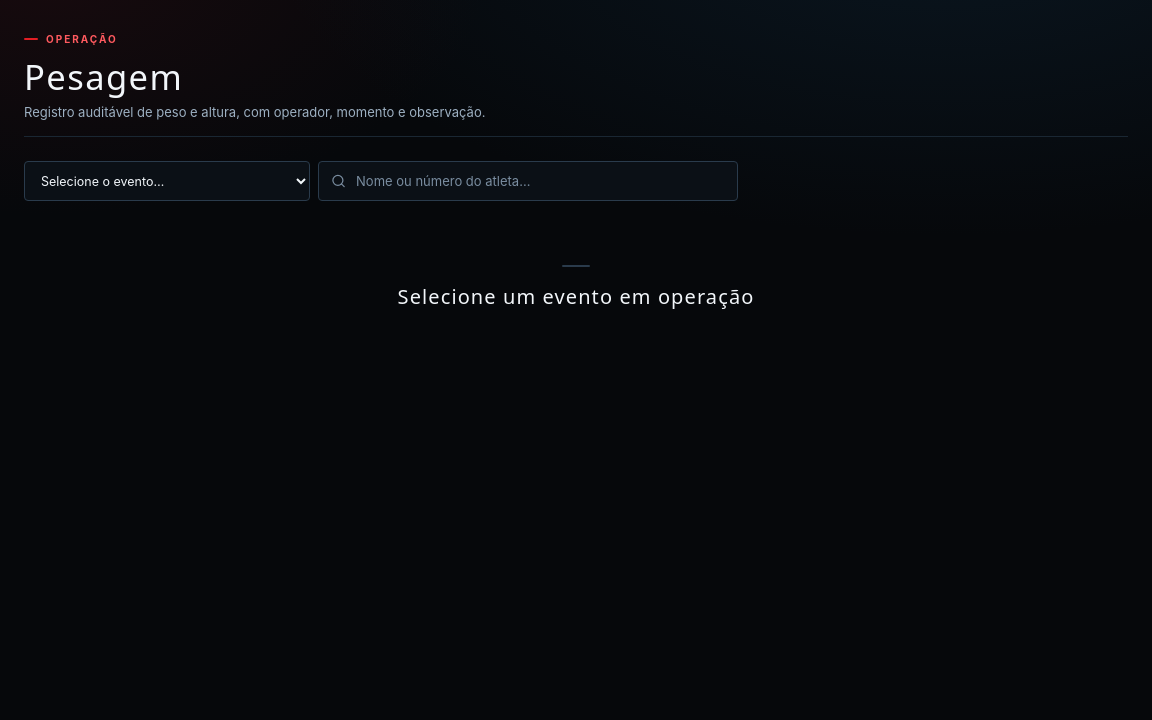
Test: pesagem › peso fora da faixa NÃO é comemoração — é decisão da organização
Step 1. Select "Muscle Contest Curitiba — Em operação" in the dropdown named "Selecionar evento" → (167, 181), box [24, 161, 310, 201]
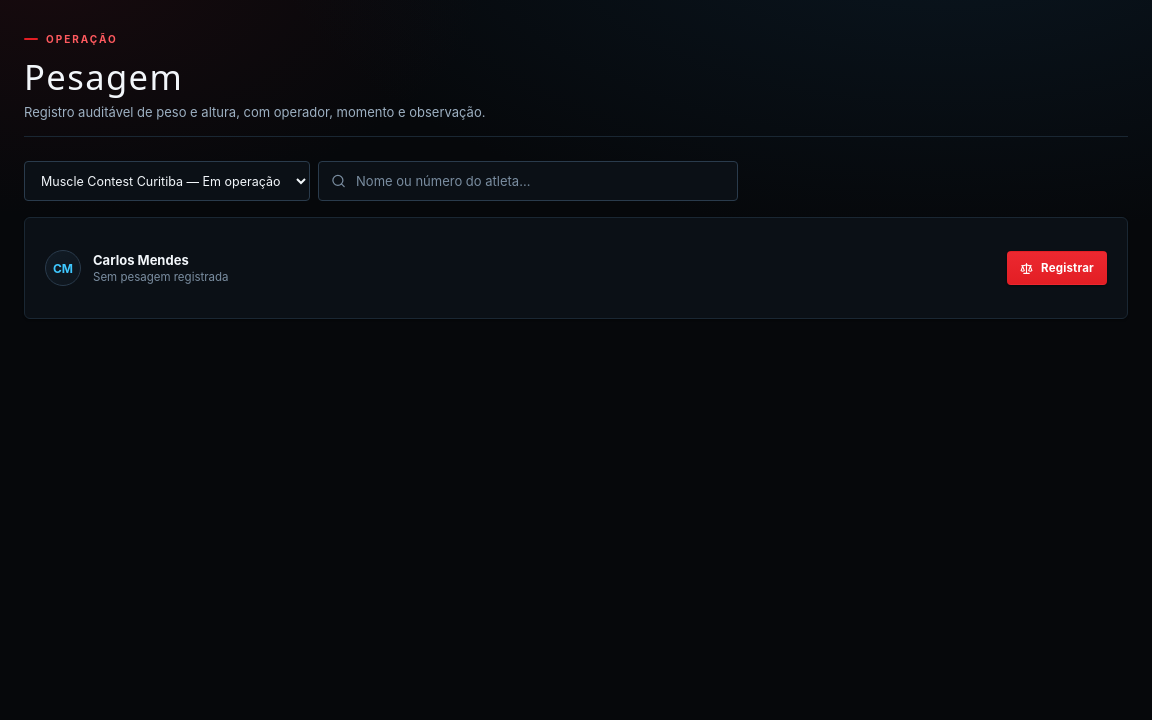
Step 2. Click the button "Registrar" → (1057, 268), box [1007, 251, 1107, 285]
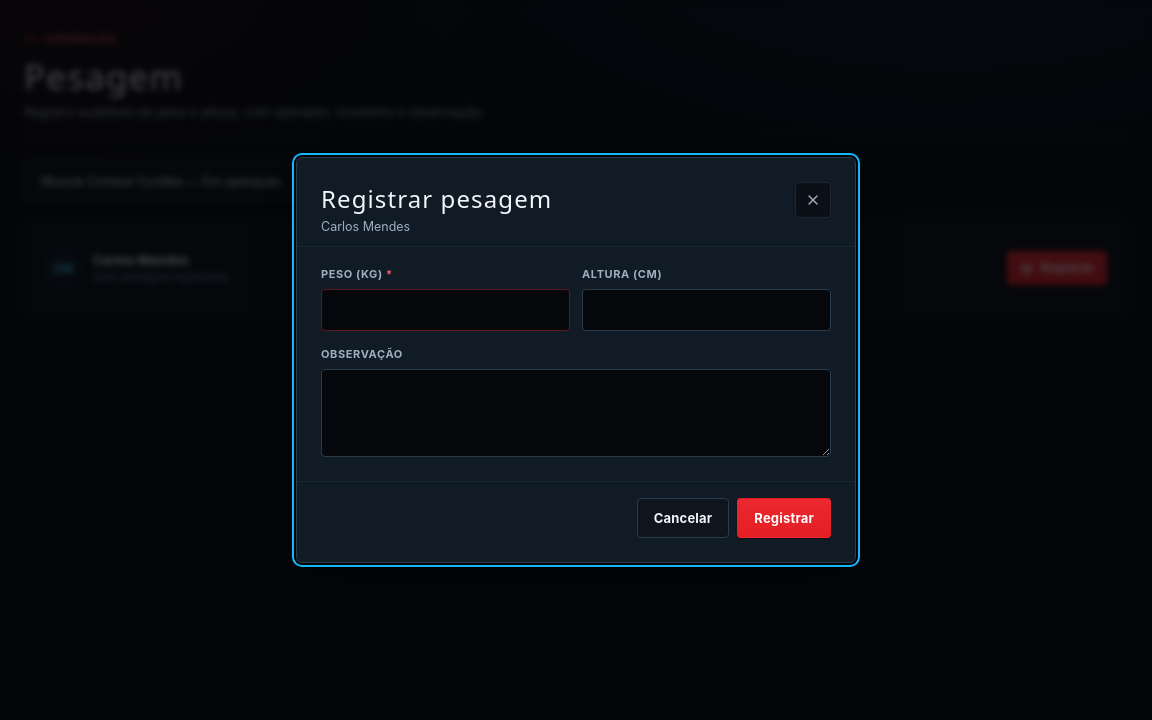
Step 3. Type "120" into the number field labelled "Peso (kg) *" → (446, 310), box [321, 289, 570, 331]
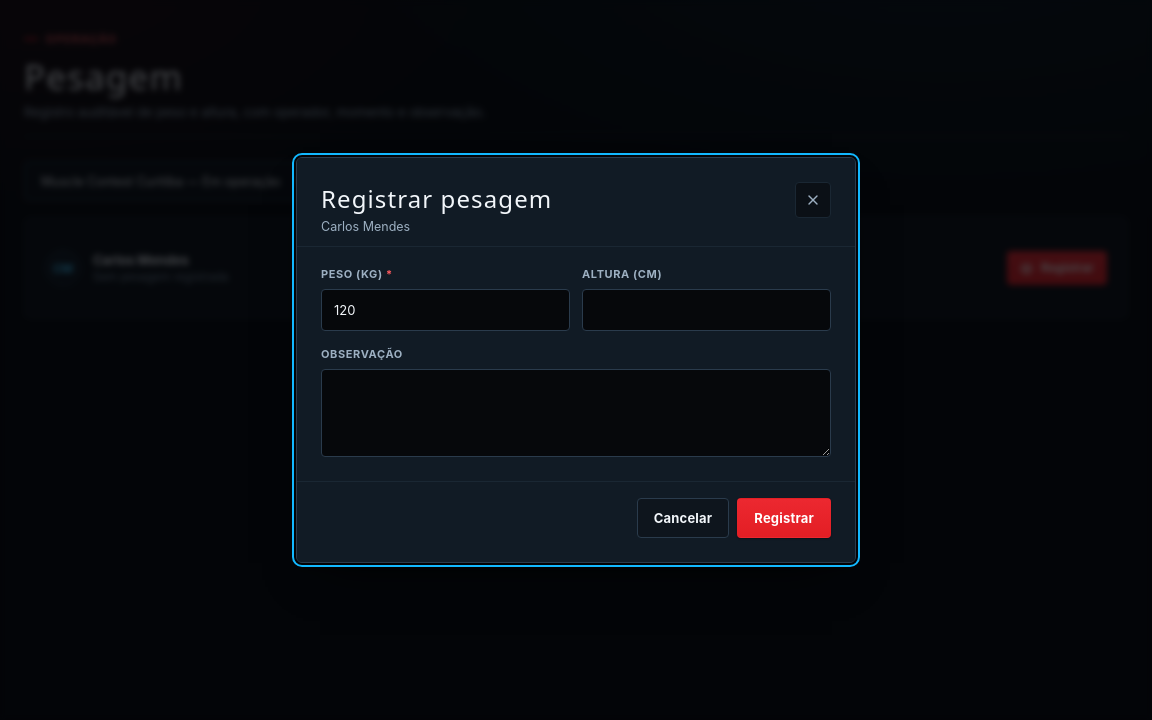
Step 4. Click the button "Registrar" → (784, 518), box [737, 498, 831, 538]
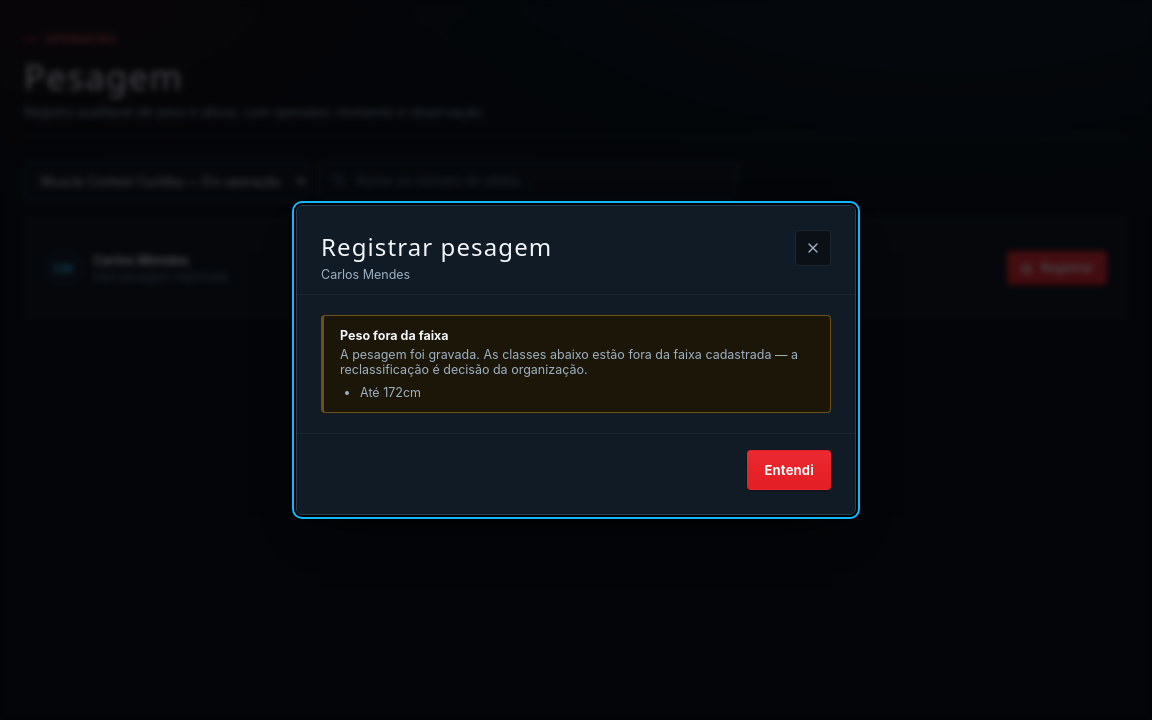
expect the text "Peso fora da faixa" is shown: met, box [340, 328, 448, 343]
